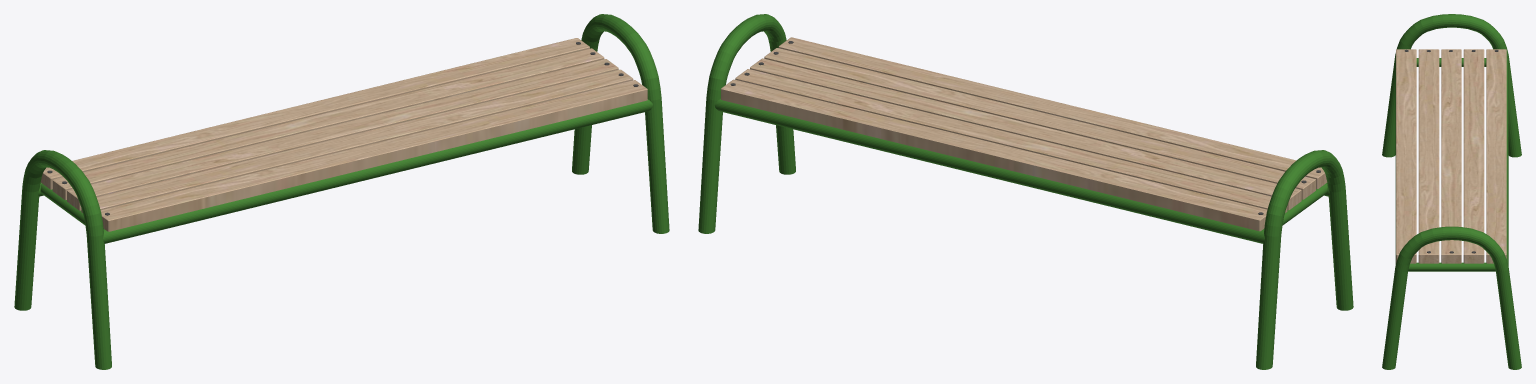
The model's file is bench.obj.
The picture shows the model from 3 angles, left to right: view 1: azimuth 30°, elevation 25°; view 2: azimuth 150°, elevation 25°; view 3: azimuth 270°, elevation 25°; orthographic projection. The views are drawn at different scales.
Visible parts, largest first — view 1: Bench, Structure; view 2: Bench, Structure; view 3: Bench, Structure.
Part boxes in pixels (box(x1,y1,x2,y2)): Bench: box(40, 38, 647, 231); Structure: box(14, 14, 669, 369); Bench: box(721, 37, 1327, 231); Structure: box(698, 14, 1353, 369); Bench: box(1396, 49, 1506, 263); Structure: box(1382, 14, 1521, 369).
Size of the model in its own units: 170 by 50.84 by 45.99.
Materials: 3 (1 with a texture image).
